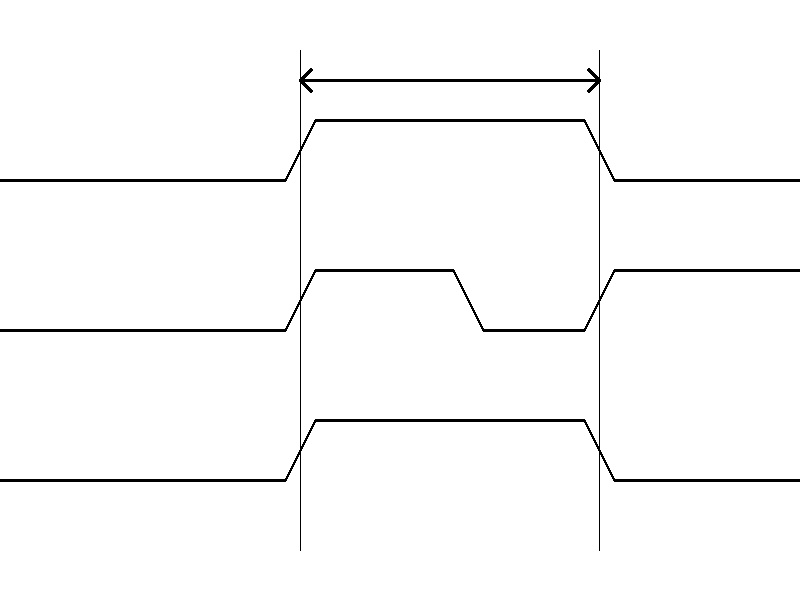double_arrow: (300, 65, 599, 95)
